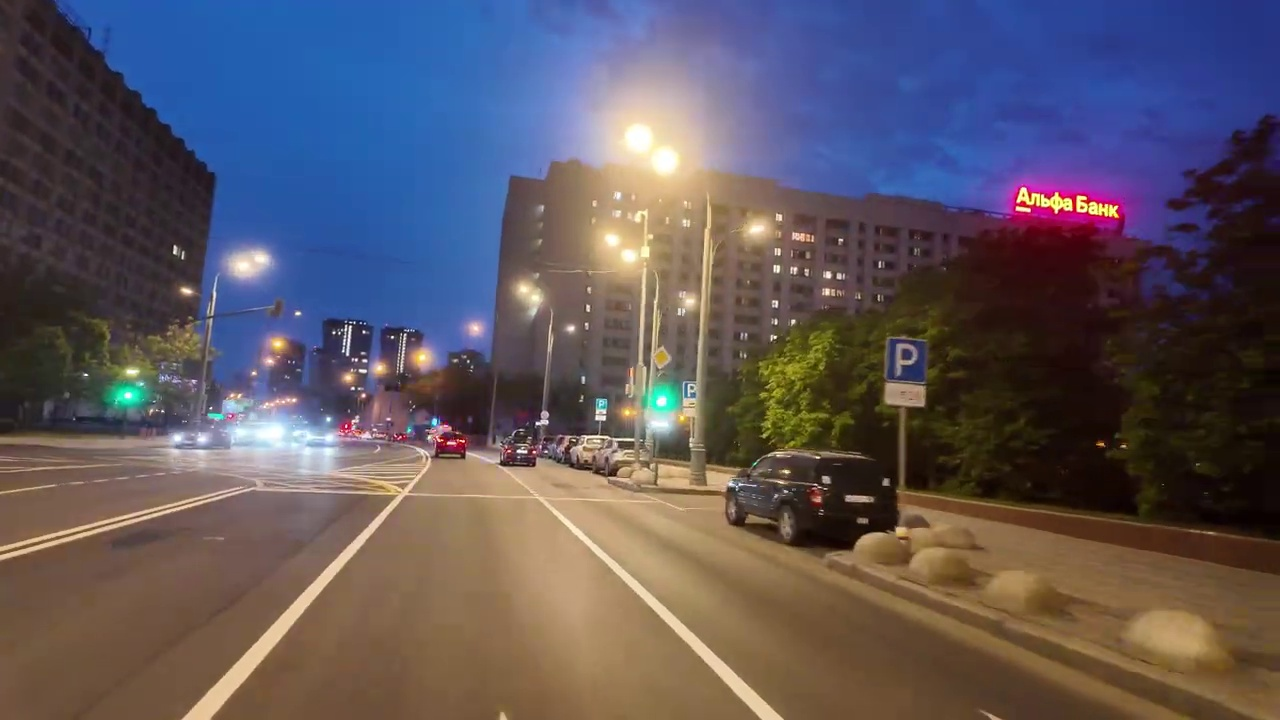acesa: (616, 116, 683, 180), (599, 228, 644, 273), (512, 277, 546, 314), (740, 215, 775, 245), (231, 251, 267, 277), (265, 334, 291, 362), (174, 282, 197, 303)
